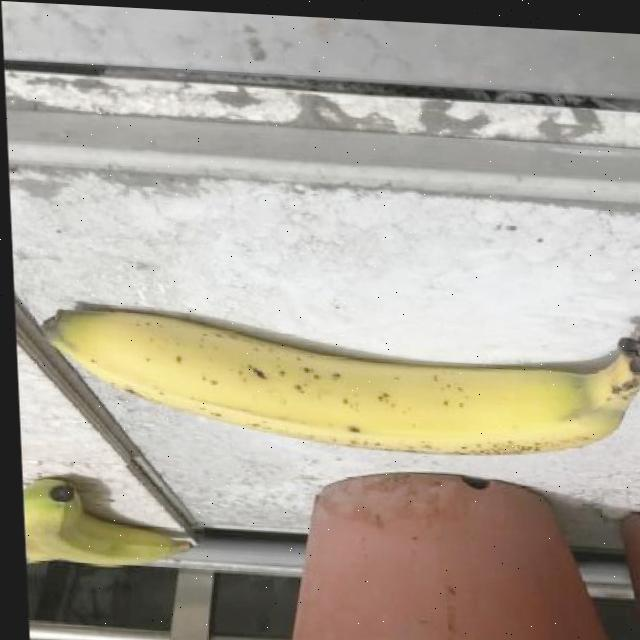banana: (34, 281, 640, 471)
